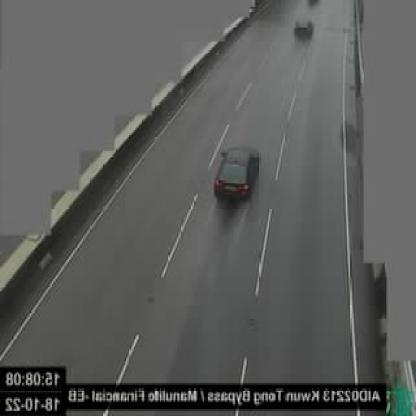Car: (213, 145, 262, 207), (291, 17, 314, 43)
